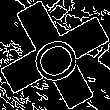O_NE: (22, 24, 88, 86)
